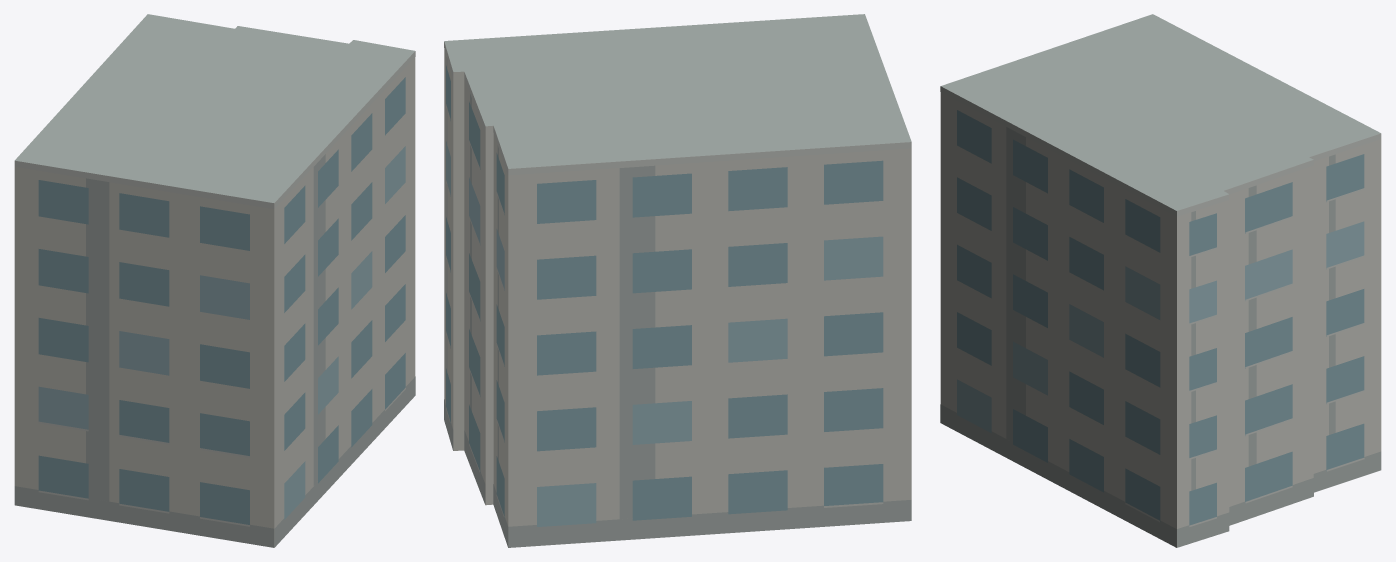
File: survey-upis-32774494.glb
3 renders of one model, left to right at view 1: azimuth 30°, elevation 25°; view 2: azimuth 150°, elevation 25°; view 3: azimuth 270°, elevation 25°, orthographic. The views are drawn at different scales.
Parts seen in each view (by area): view 1: survey-upis-32774494.tmp; view 2: survey-upis-32774494.tmp; view 3: survey-upis-32774494.tmp.
Part boxes in pixels (x1,y1,x2,y2): survey-upis-32774494.tmp: (14,14,415,547); survey-upis-32774494.tmp: (444,14,911,547); survey-upis-32774494.tmp: (940,14,1381,547).
Bounding box in the file's own units: 17.57 × 14 × 16.61.
